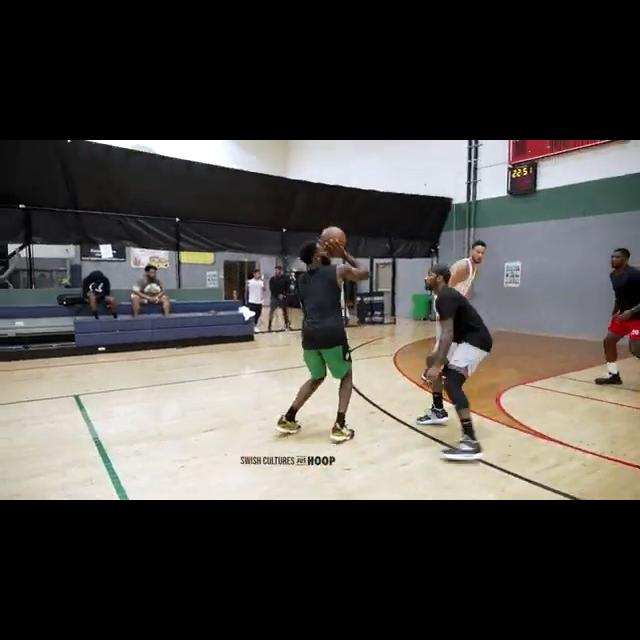basketball: (317, 226, 348, 255)
person: (273, 241, 359, 445), (415, 268, 494, 465), (423, 219, 490, 386), (594, 248, 640, 387), (130, 258, 172, 321), (81, 268, 121, 321), (266, 263, 295, 333), (243, 264, 268, 336)
